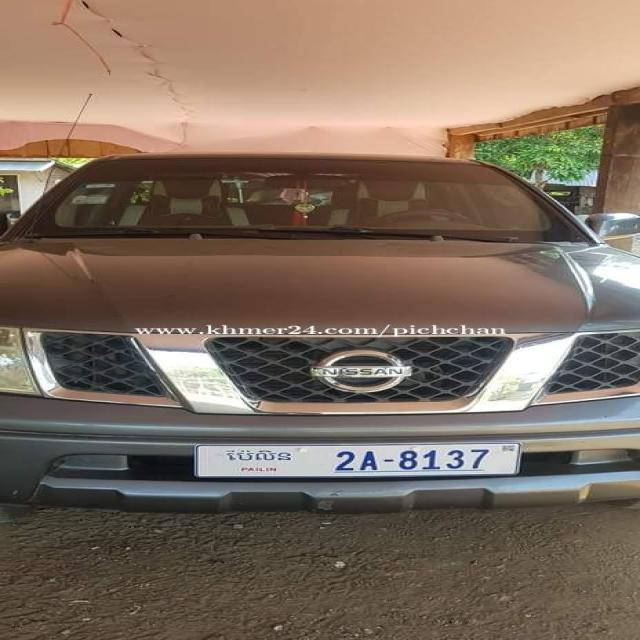Pailin: (226, 449, 292, 463)
